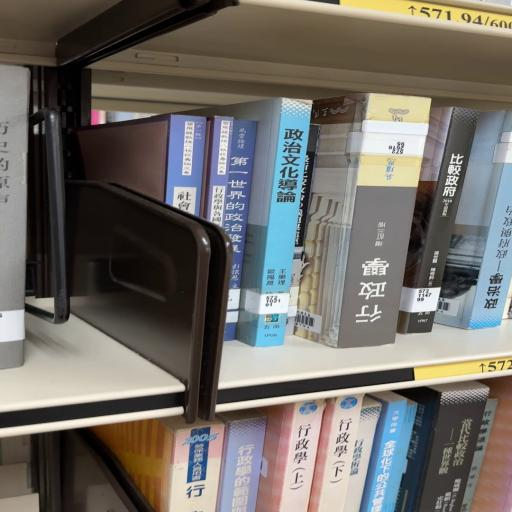reverse: (295, 94, 431, 349)
